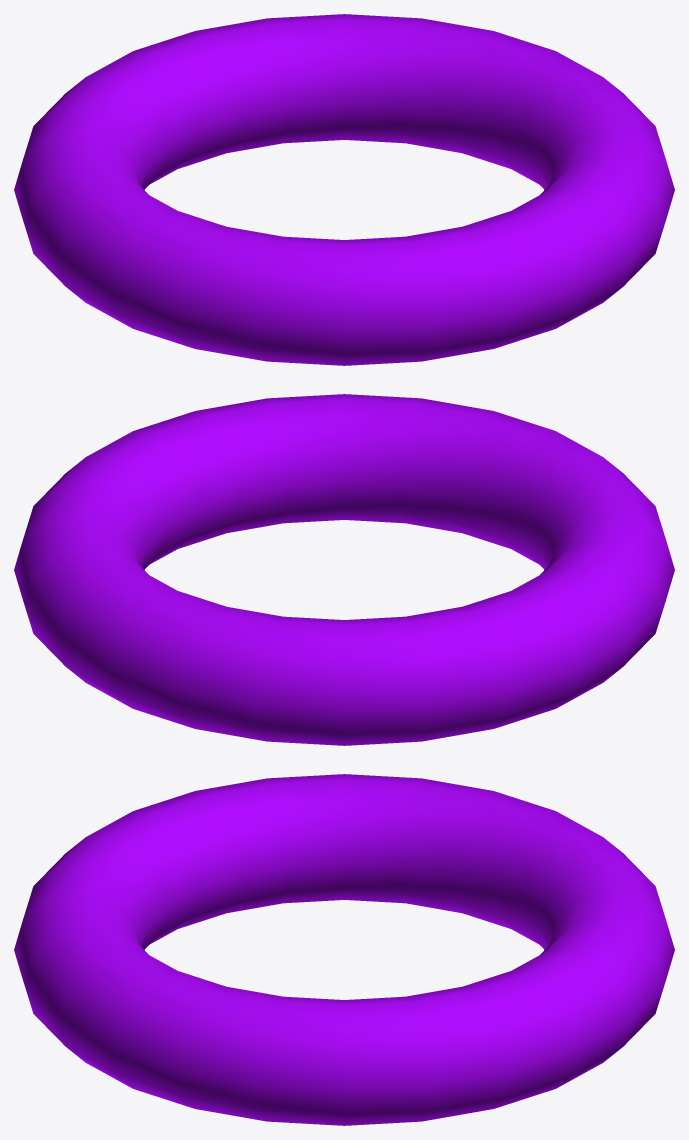
3 views of the same model, one above another, from view 1: azimuth 30°, elevation 25°; view 2: azimuth 150°, elevation 25°; view 3: azimuth 270°, elevation 25° (orthographic).
Visible parts, largest first — view 1: Torus001; view 2: Torus001; view 3: Torus001.
Boxes of the visible parts, x1,y1,x2,y2 form: Torus001: [14, 14, 674, 365]; Torus001: [14, 394, 674, 745]; Torus001: [14, 774, 674, 1125].
Bounding box in the file's own units: 318 × 60.83 × 318.
